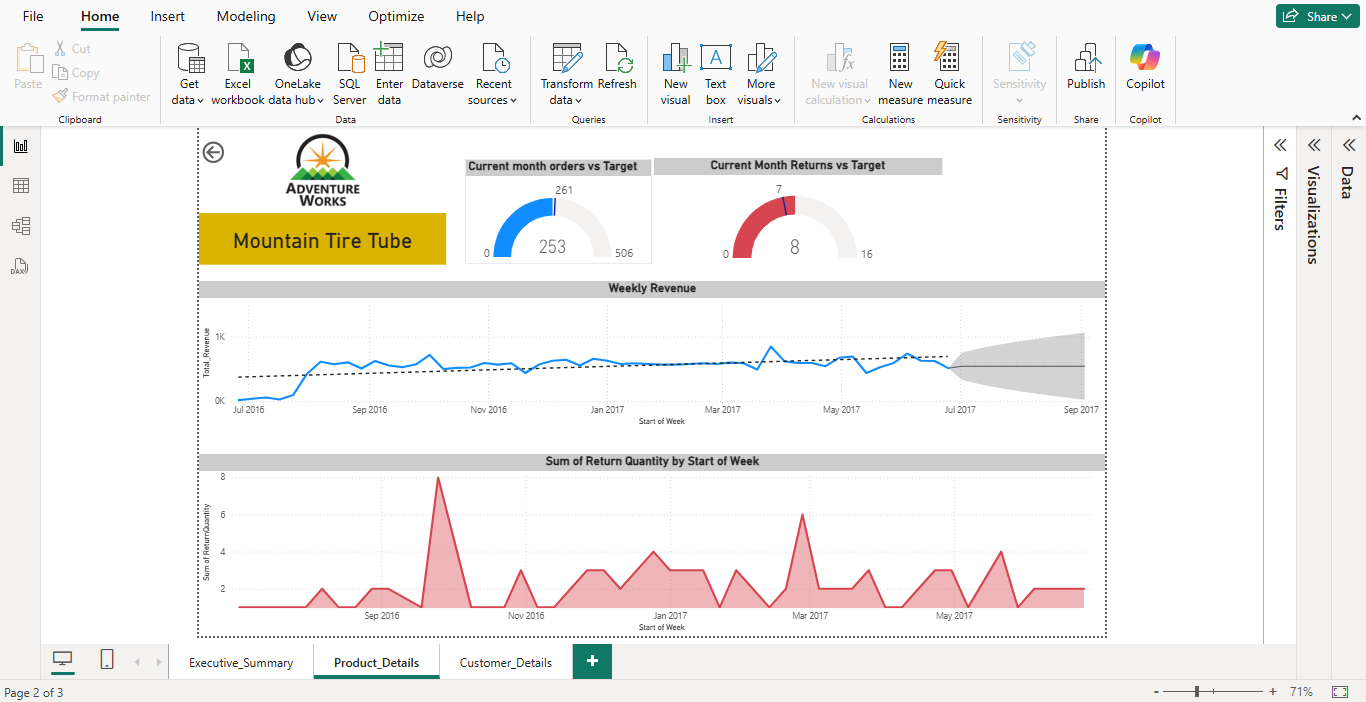

The dashboard page shown, as its layout file describes it:
{"tool":"powerbi","page":{"name":"Product_Details","canvas":[1280,720],"ordinal":1},"visuals":[{"type":"lineChart","title":"Weekly Revenue","fields":{"Category":["Calendar_Lookup.Start of Week"],"Y":["AW_sales.Total_Revenue"]},"box":[0,218.8,1280.5,208.9],"z":0},{"type":"image","box":[110.9,0,126,122.6],"z":1000},{"type":"areaChart","title":"Sum of Return Quantity by Start of Week","fields":{"Category":["Calendar_Lookup.Start of Week"],"Y":["Sum(Returns.ReturnQuantity)"]},"box":[0,463.1,1280.5,255.5],"z":2000},{"type":"card","fields":{"Values":["Min(Products_Lookup.ProductName)"]},"box":[0,122.8,348.7,73.4],"z":3000},{"type":"gauge","title":"Current month orders vs Target","fields":{"Y":["AW_sales.Total_Order"],"TargetValue":["AW_sales.OrderTarget"]},"box":[375.5,46.6,264,148.2],"z":4000},{"type":"gauge","title":"Current Month Returns vs Target","fields":{"Y":["Sum(Returns.ReturnQuantity)"],"TargetValue":["CountNonNull(Returns.ReturnDate)"]},"box":[641.7,45.4,406.5,151.2],"z":5000},{"type":"actionButton","box":[0,16.8,100.8,40.3],"z":6000}]}

Visuals, with their boxes on the page's 1280x720 design canvas (x1, y1, x2, y2). These are canvas units, not pixel positions in the 1366x702 screenshot, which may show the page scaled, cropped or inside an application window:
"Weekly Revenue" lineChart: 0:219:1280:428
image: 111:0:237:123
"Sum of Return Quantity by Start of Week" areaChart: 0:463:1280:719
card - Min(Products_Lookup.ProductName): 0:123:349:196
"Current month orders vs Target" gauge: 376:47:640:195
"Current Month Returns vs Target" gauge: 642:45:1048:197
actionButton: 0:17:101:57
